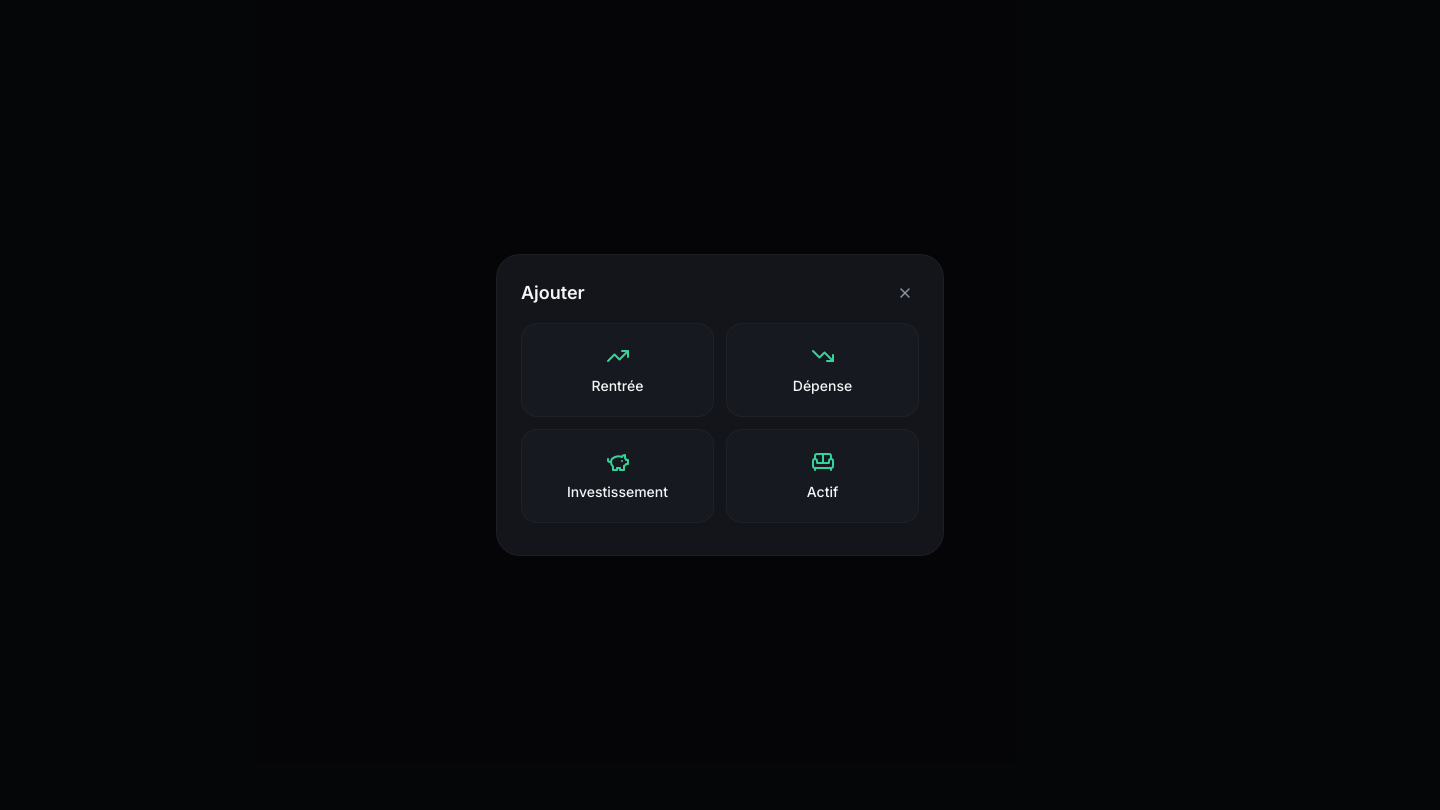
Scenario: AddMovementSheet › demande la source pour une rentree
This screenshot has width=1440, height=810.
What coordinates should you click on to do the following:
click the button "Rentrée"
I would click on:
 (618, 370)
Its box is left=521, top=323, right=714, bottom=417.
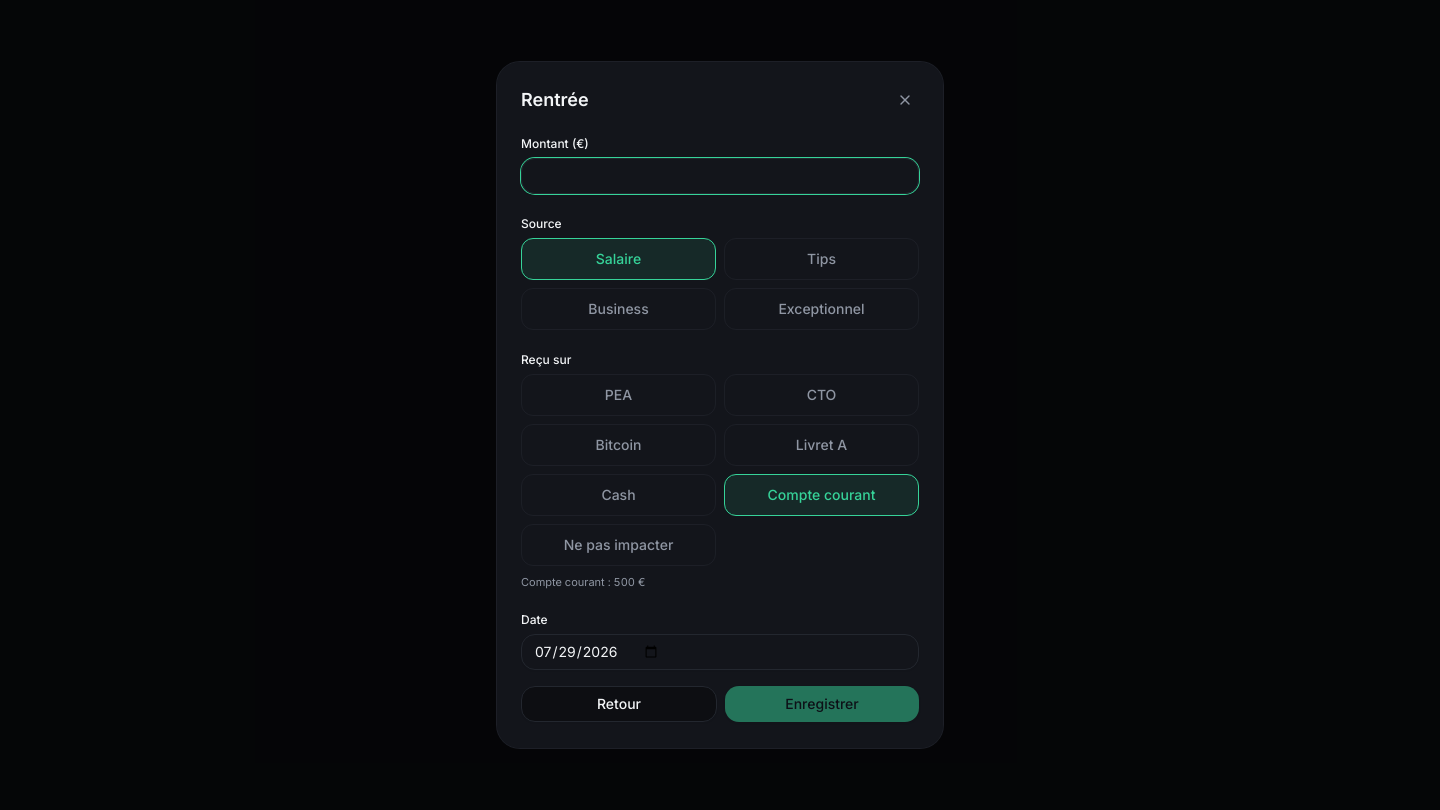
Check: the button "Salaire" is shown, box left=521, top=238, right=716, bottom=280
Check: the button "Tips" is shown, box left=724, top=238, right=919, bottom=280
Check: the button "Business" is shown, box left=521, top=288, right=716, bottom=330
